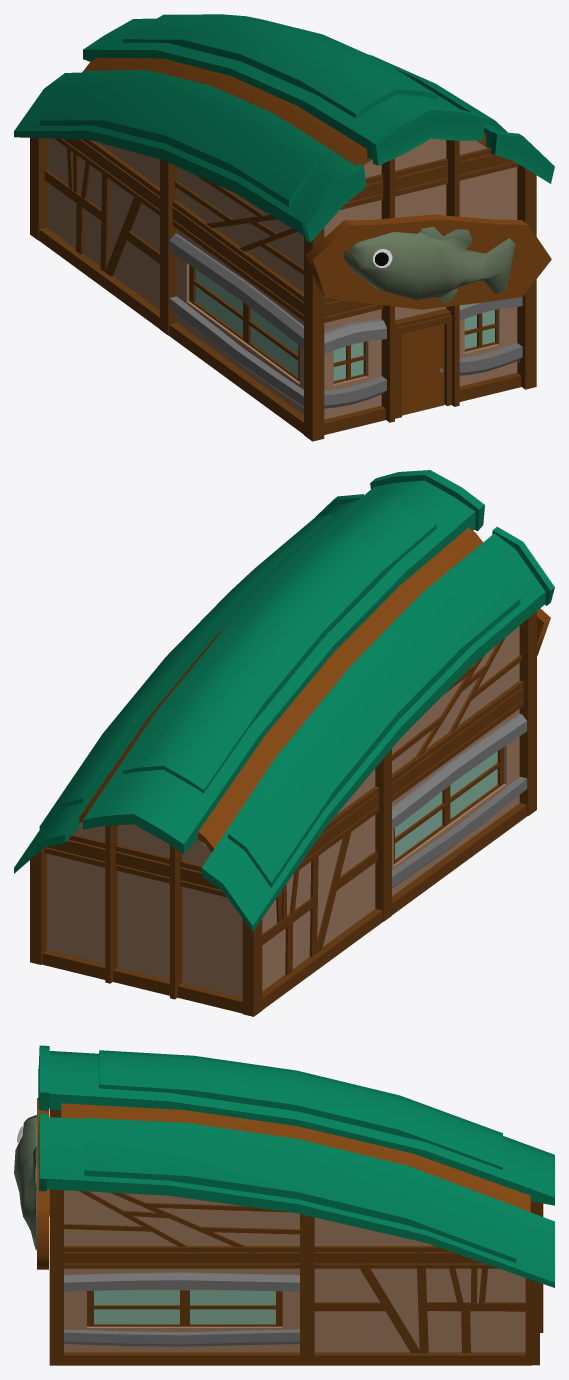
File: Mesh_HOuse_Harbour_Large.fbx
3 renders of one model, top to bottom at view 1: azimuth 30°, elevation 25°; view 2: azimuth 150°, elevation 25°; view 3: azimuth 270°, elevation 25°, orthographic. The views are drawn at different scales.
Parts seen in each view (by area): view 1: HOuse_Harbour_Large; view 2: HOuse_Harbour_Large; view 3: HOuse_Harbour_Large.
Boxes of the visible parts, <box> form: HOuse_Harbour_Large: <box>14,14,554,441</box>; HOuse_Harbour_Large: <box>14,470,554,1016</box>; HOuse_Harbour_Large: <box>14,1045,554,1365</box>.
Bounding box in the file's own units: 719 × 852 × 1559.
1 material, 1 textured.
